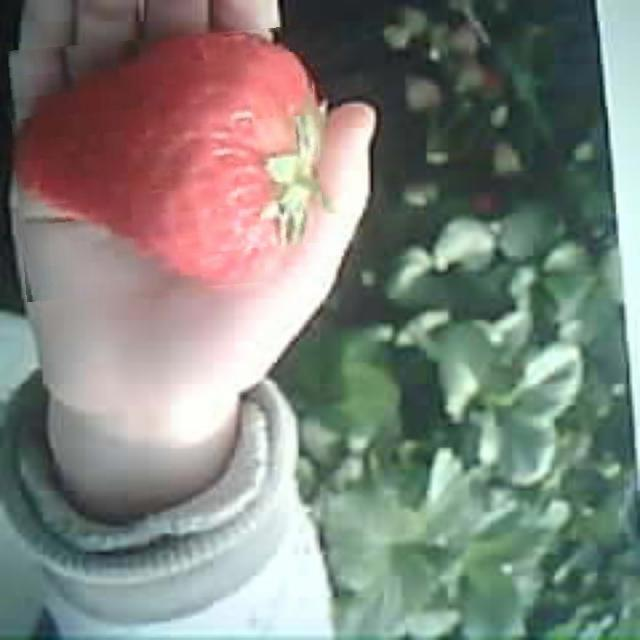strawberry: (11, 32, 324, 296)
